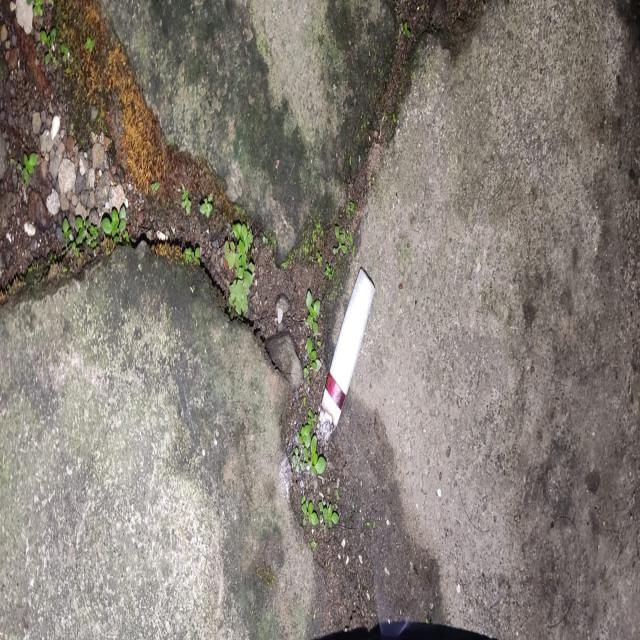b3: (316, 251, 379, 486)
